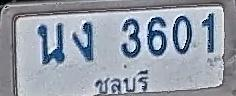0: (172, 15, 192, 54)
1: (202, 12, 214, 52)
3: (121, 18, 141, 58)
6: (146, 16, 166, 56)
A07: (72, 21, 94, 61)
A25: (37, 22, 65, 64)
CBI: (93, 70, 152, 96)
